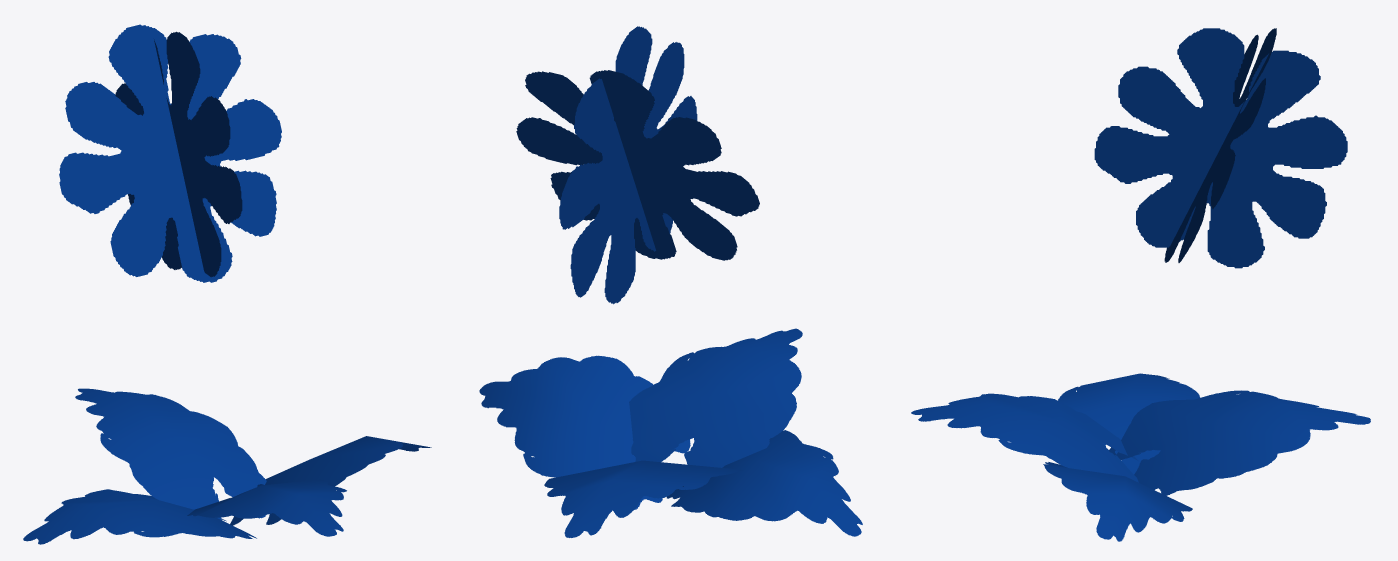
File: SM_FloorDandelion1.fbx
3 views of the same model, side by side, from view 1: azimuth 30°, elevation 25°; view 2: azimuth 150°, elevation 25°; view 3: azimuth 270°, elevation 25° (orthographic). The views are drawn at different scales.
Parts seen in each view (by area): view 1: Plane032; view 2: Plane032; view 3: Plane032.
Boxes of the visible parts, x1,y1,x2,y2 form: Plane032: [23, 24, 431, 544]; Plane032: [479, 26, 862, 537]; Plane032: [911, 28, 1370, 541].
Size of the model in its own units: 28.32 by 32.46 by 30.22.
